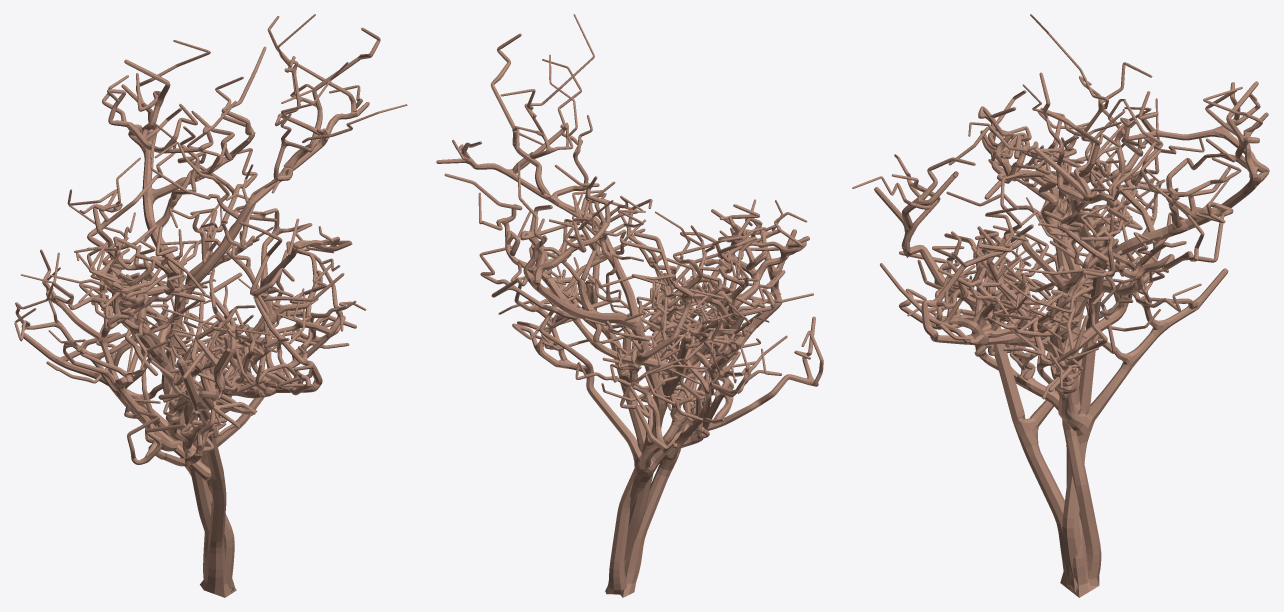
3 views of the same model, side by side, from view 1: azimuth 30°, elevation 25°; view 2: azimuth 150°, elevation 25°; view 3: azimuth 270°, elevation 25° (orthographic). The views are drawn at different scales.
Visible parts, largest first — view 1: Arbusto; view 2: Arbusto; view 3: Arbusto.
Boxes of the visible parts, bbox=[...] form: Arbusto: bbox=[14, 14, 407, 597]; Arbusto: bbox=[436, 14, 823, 597]; Arbusto: bbox=[852, 14, 1269, 597].
Size of the model in its own units: 1.3 by 2.01 by 1.24.
